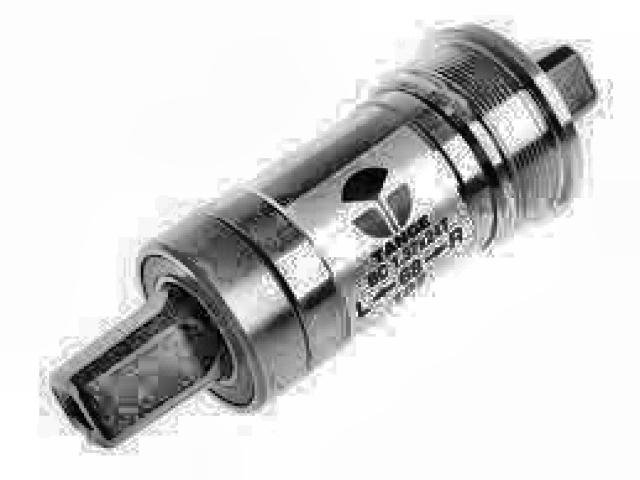bottom_bracket: (49, 20, 600, 451)
